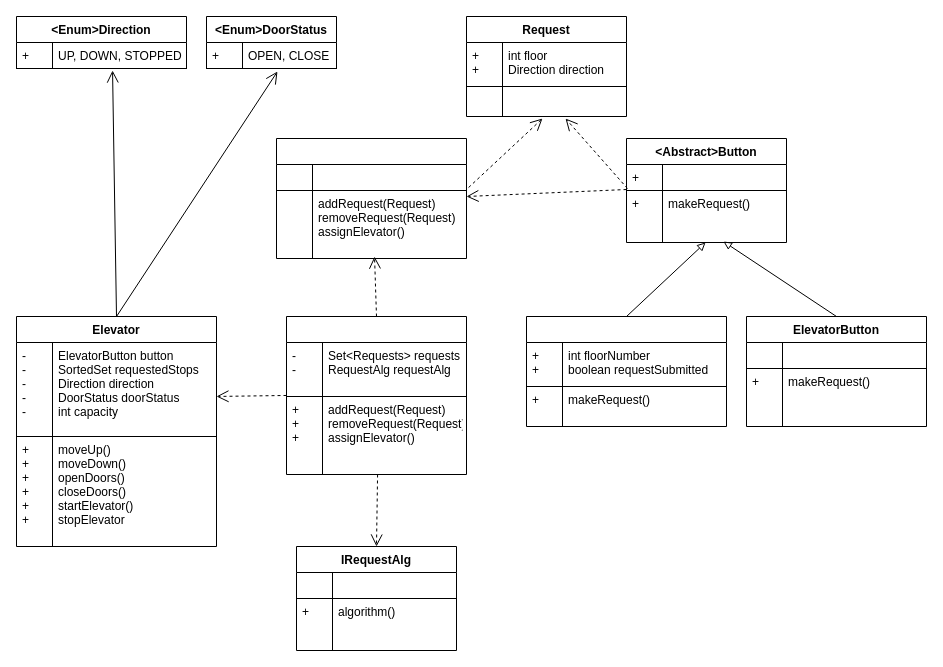
This 943x667 diagram has some shape labels left out. The shapes that lost their labels are listed below. From the top down, each one's box as (x1, y1, x2, y2) in pixels, then its label:
(276, 138, 466, 258): IRequestHandler
(526, 316, 726, 426): FloorButton
(286, 316, 466, 474): RequestHandlerImpl
